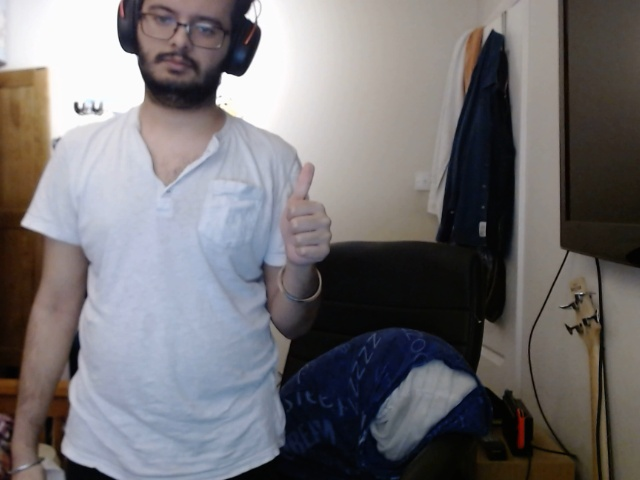Thumbs up: (274, 158, 342, 274)
